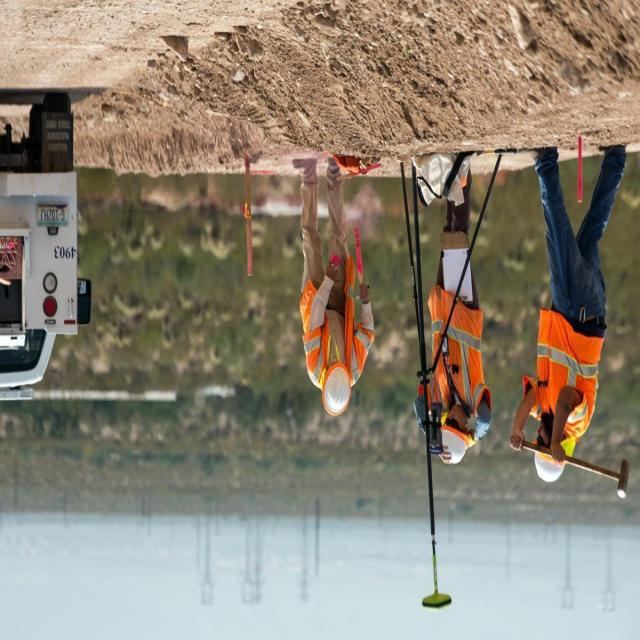helmet: (318, 361, 357, 418), (434, 422, 474, 470), (522, 452, 572, 484)
jacket: (524, 310, 610, 444), (414, 286, 494, 414), (296, 272, 372, 388)
